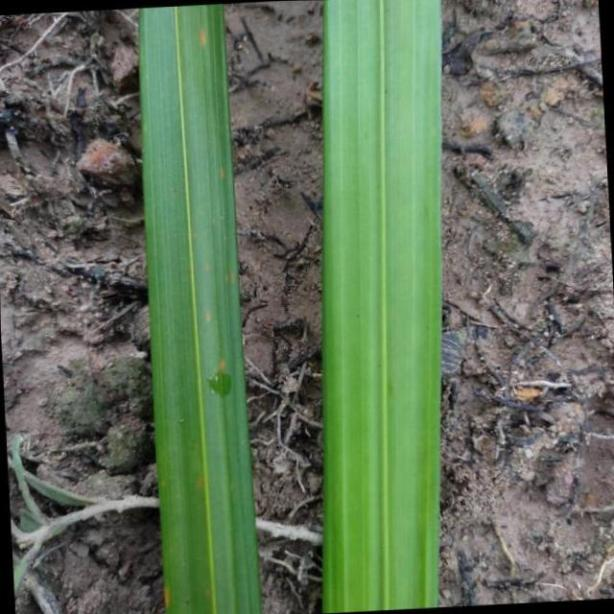nitrogen: (136, 0, 261, 614), (325, 0, 446, 614)
